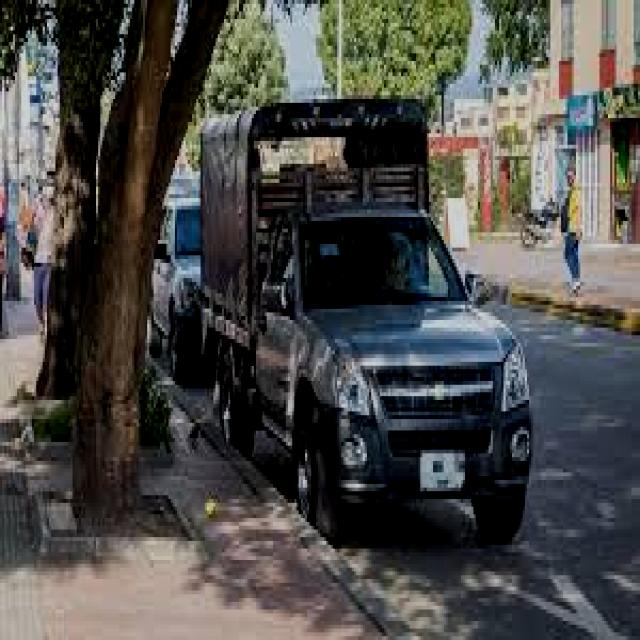CMT: (202, 105, 538, 544)
